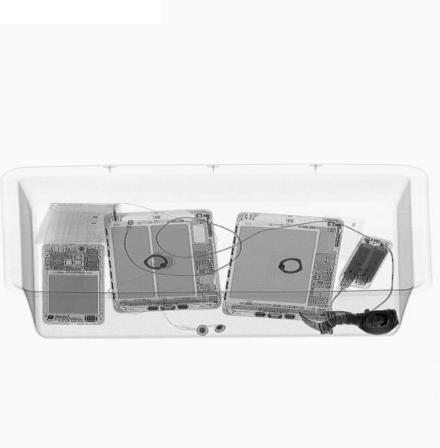Powerbank: (334, 234, 397, 292)
